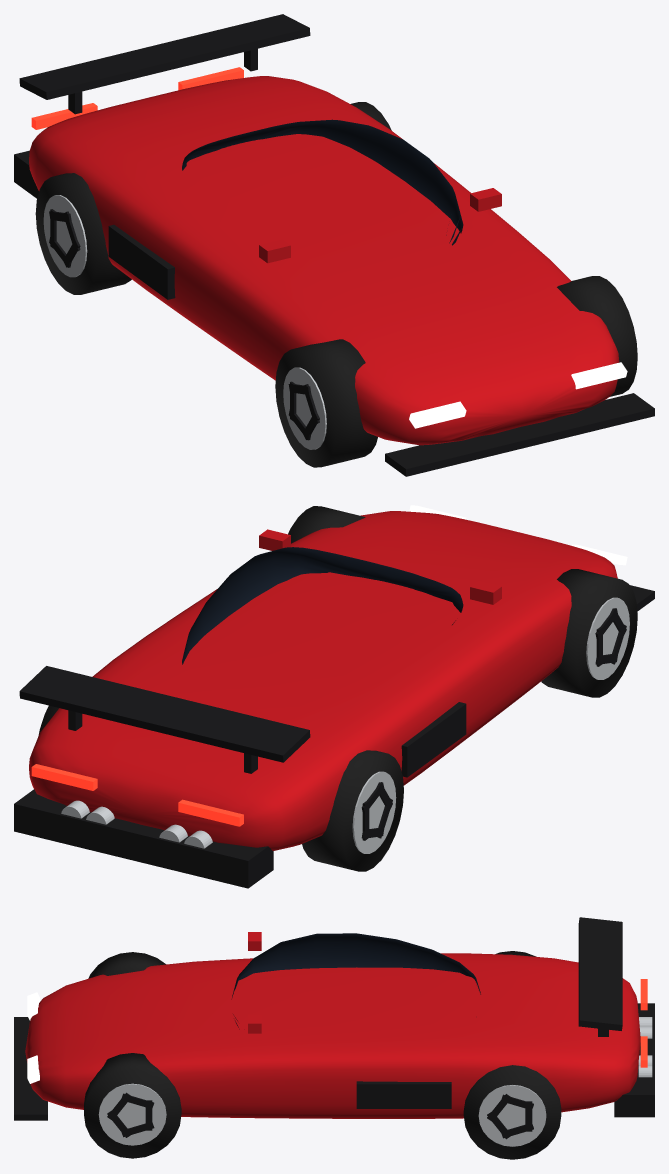
The model's file is car.glb.
3 renders of one model, top to bottom at view 1: azimuth 30°, elevation 25°; view 2: azimuth 150°, elevation 25°; view 3: azimuth 270°, elevation 25°, orthographic. The views are drawn at different scales.
Parts seen in each view (by area): view 1: car_body, car_wheel0, car_wing, car_wheel2, car_splitter, car_glass, car_wheel1, car_intake, car_head, car_head.001, car_diffuser, car_tail (+1 smaller); view 2: car_body, car_wing, car_diffuser, car_wheel0, car_wheel2, car_glass, car_intake, car_wheel1, car_tail.001, car_tail, car_mirror, car_mirror.001; view 3: car_body, car_wheel1, car_wheel3, car_glass, car_wing, car_intake.001, car_splitter, car_diffuser, car_wheel0.
Boxes of the visible parts, box(x1,y1,x2,y2) form: car_body: box(29, 76, 619, 445); car_wheel0: box(275, 339, 377, 467); car_wing: box(19, 14, 310, 99); car_wheel2: box(35, 173, 131, 294); car_splitter: box(385, 393, 654, 476); car_glass: box(182, 119, 463, 245); car_wheel1: box(557, 276, 637, 396); car_intake: box(108, 224, 175, 299); car_head: box(409, 401, 466, 428); car_head.001: box(571, 362, 627, 389); car_diffuser: box(14, 150, 38, 198); car_tail: box(31, 103, 97, 129); car_body: box(29, 511, 617, 850); car_wing: box(19, 666, 310, 762); car_diffuser: box(14, 789, 273, 888); car_wheel0: box(541, 569, 637, 697); car_wheel2: box(302, 750, 403, 871); car_glass: box(182, 547, 463, 664); car_intake: box(401, 702, 466, 777); car_wheel1: box(288, 506, 365, 543); car_tail.001: box(31, 764, 97, 790); car_tail: box(178, 799, 243, 826); car_mirror: box(470, 581, 501, 604); car_mirror.001: box(259, 529, 290, 550); car_body: box(25, 953, 640, 1118); car_wheel1: box(84, 1053, 181, 1158); car_wheel3: box(463, 1065, 561, 1159); car_glass: box(231, 933, 480, 1029); car_wing: box(578, 917, 622, 1030); car_intake.001: box(356, 1081, 451, 1108); car_splitter: box(14, 1017, 47, 1120); car_diffuser: box(614, 1003, 654, 1117); car_wheel0: box(88, 952, 166, 978).
Bounding box in the file's own units: 2.15 × 1.15 × 4.73.
